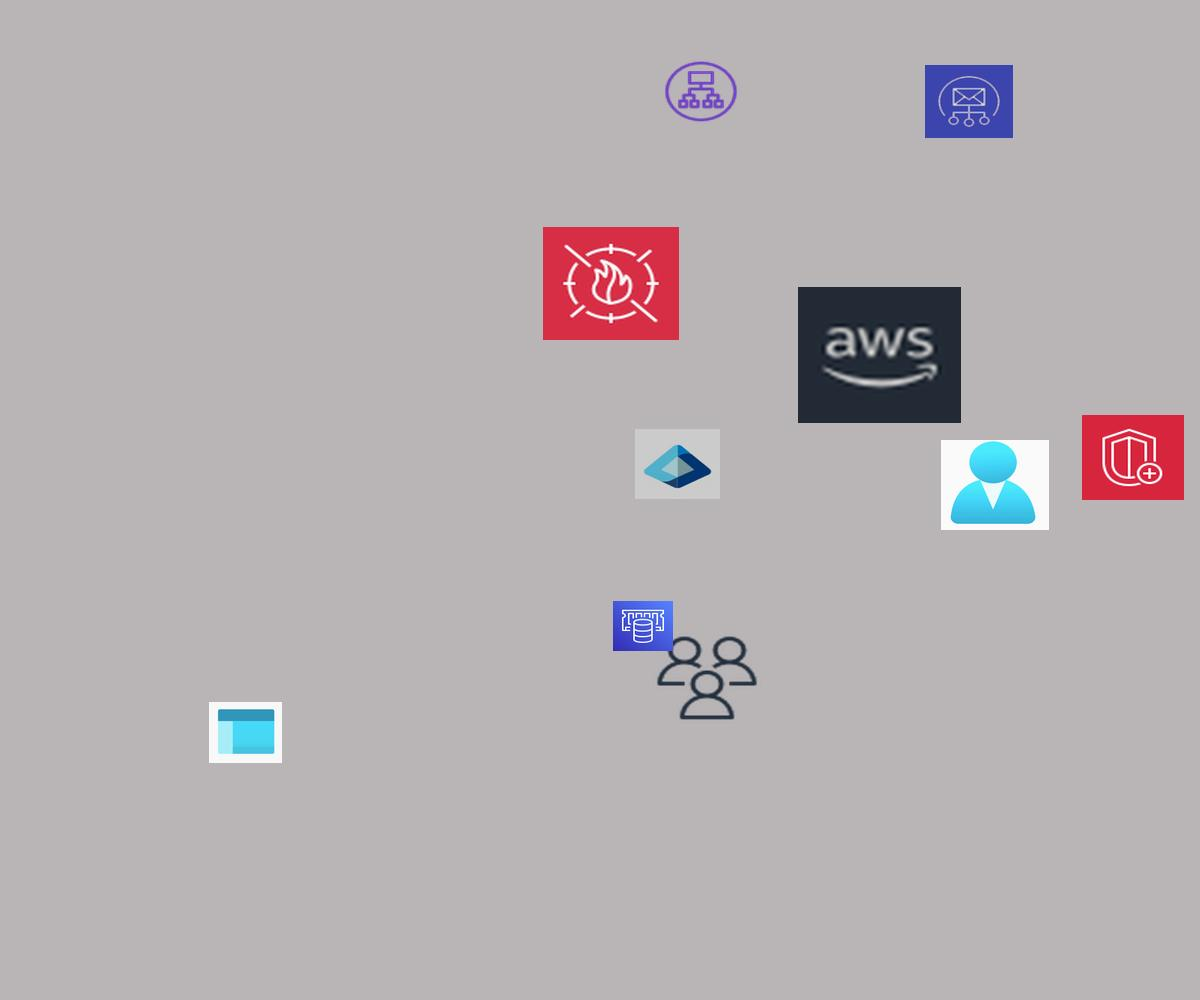AWS-Cloud-logo: (798, 287, 961, 423)
AWS-ElastiCache: (613, 601, 673, 651)
AWS-Res_Elastic-Load-Balancing_Application-Load-Balancer: (662, 59, 740, 124)
AWS-Res_Users: (653, 633, 761, 723)
AWS-Shield: (1082, 415, 1184, 500)
AWS-Simple-Email-Service: (925, 65, 1013, 138)
AWS-WAF: (543, 227, 679, 340)
Azure_management-portal: (209, 702, 282, 763)
Azure_microsoft_entra: (635, 429, 720, 499)
Azure_users: (941, 440, 1049, 530)
